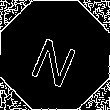N_NE: (26, 24, 84, 86)
